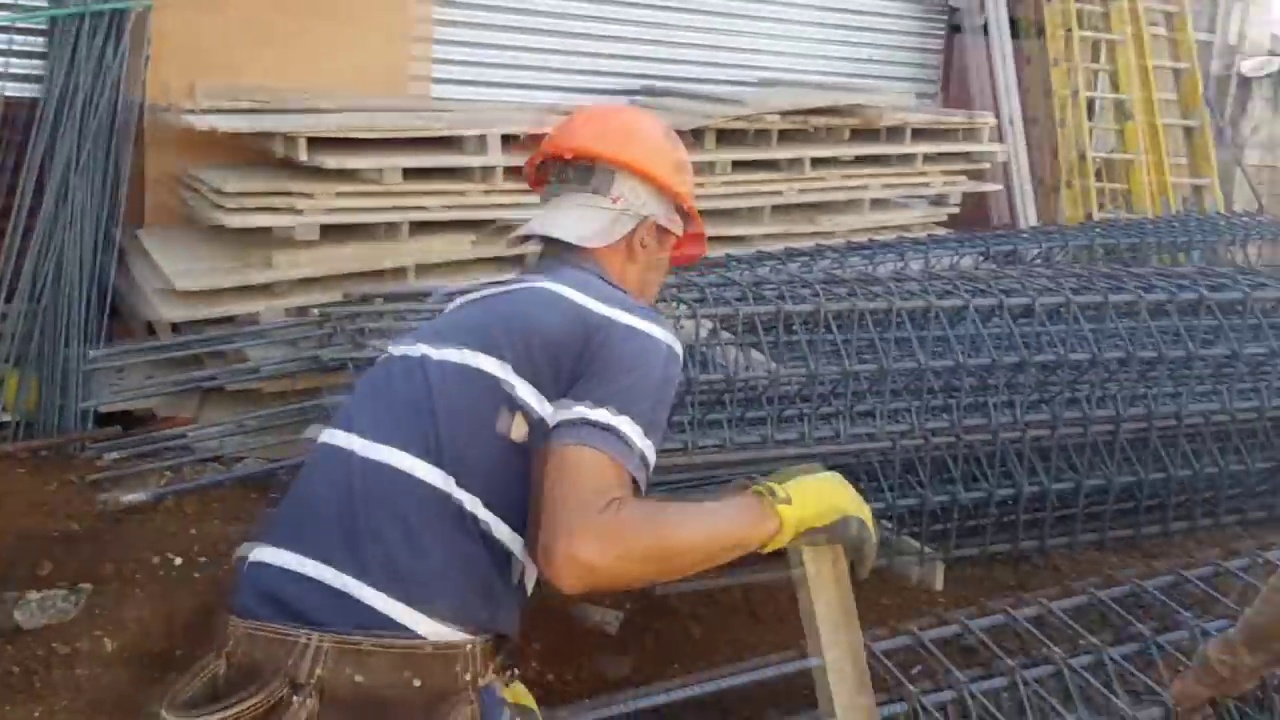helmet: (518, 103, 710, 256)
helmet-on: (501, 111, 716, 303)
person: (207, 110, 867, 720)
